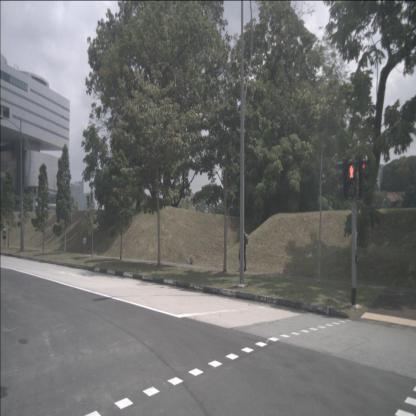human-pedestrian-adult: (239, 225, 248, 271), (2, 226, 7, 245)
